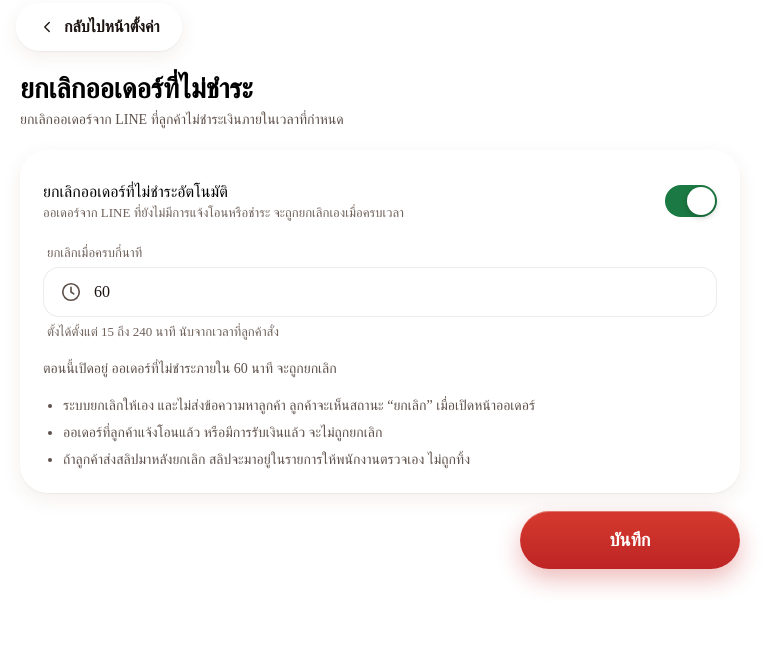
Test: cancelling unpaid LINE orders › a new number saves with the version the screen was built on
Replace the text in the field labelled "ยกเลิกเมื่อครบกี่นาที" with "90". click: (396, 292)
box: left=92, top=282, right=700, bottom=302
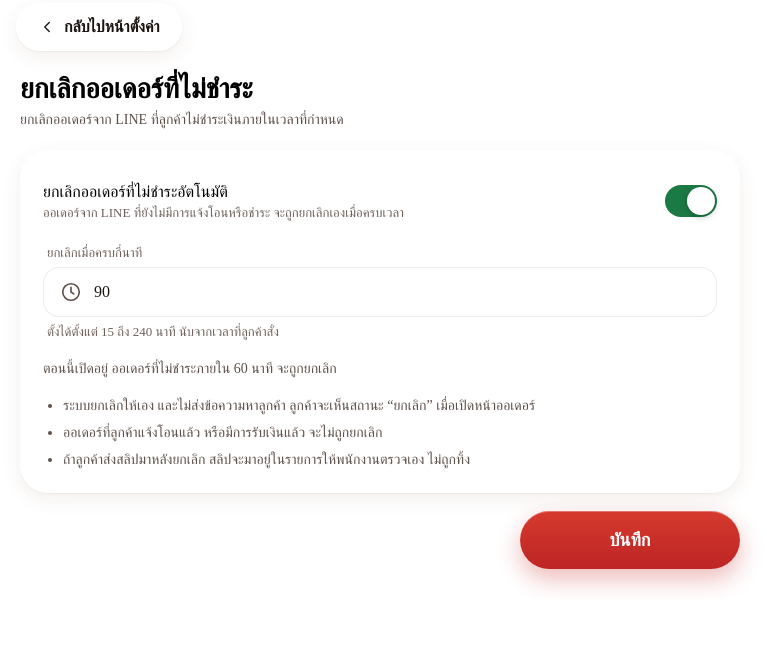
Click the button "บันทึก". click: (630, 540)
box: left=520, top=511, right=740, bottom=569
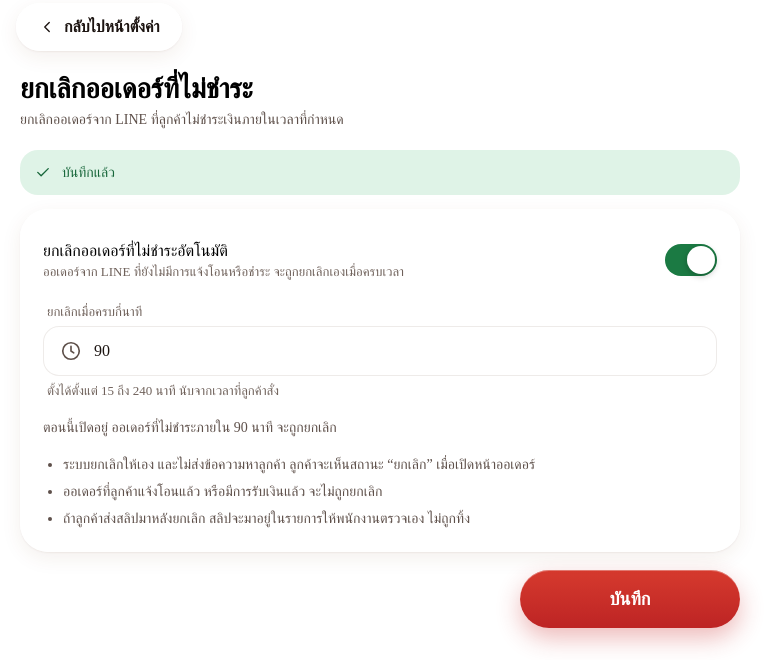
Now the text "บันทึกแล้ว" is shown, box left=62, top=165, right=115, bottom=180
